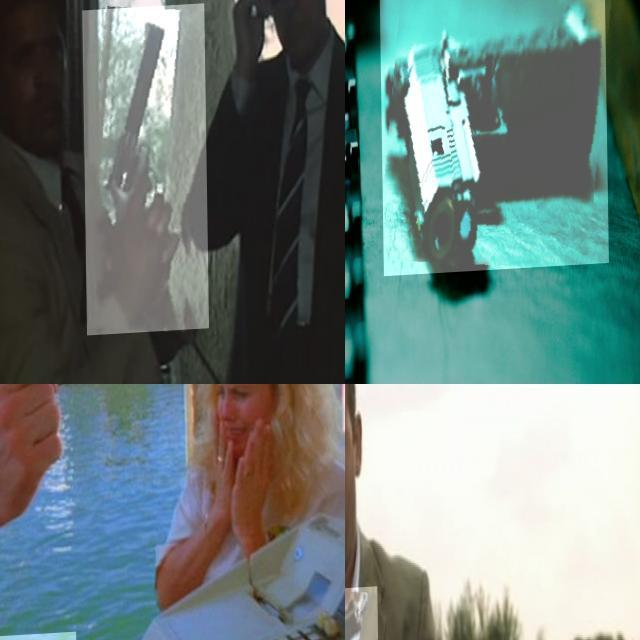gun-knife-thesis - v11 Yolov5 augmented: (379, 0, 607, 280), (82, 6, 208, 338)
